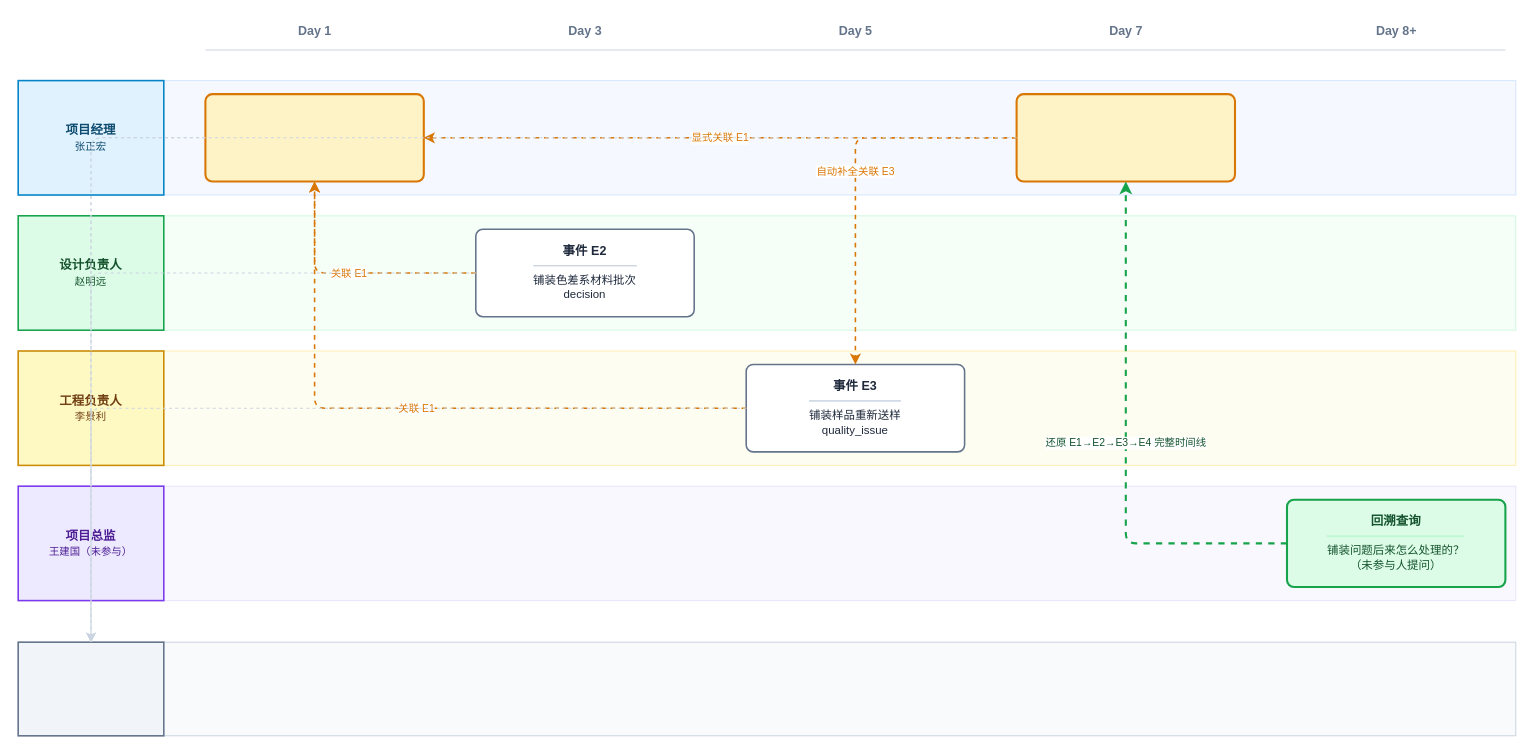
This 1535x754 diagram has some shape labels left out. The box of each missing label's shape, as (x1, y1, x2, y2) in pixels:
Emily 系统 项目数据底座: (17, 641, 164, 736)
事件 E1 铺装颜色与效果图差异大 quality_issue · 锚点: (204, 93, 424, 182)
事件 E4 样板区铺装定样 decision · 闭环: (1015, 93, 1236, 182)
